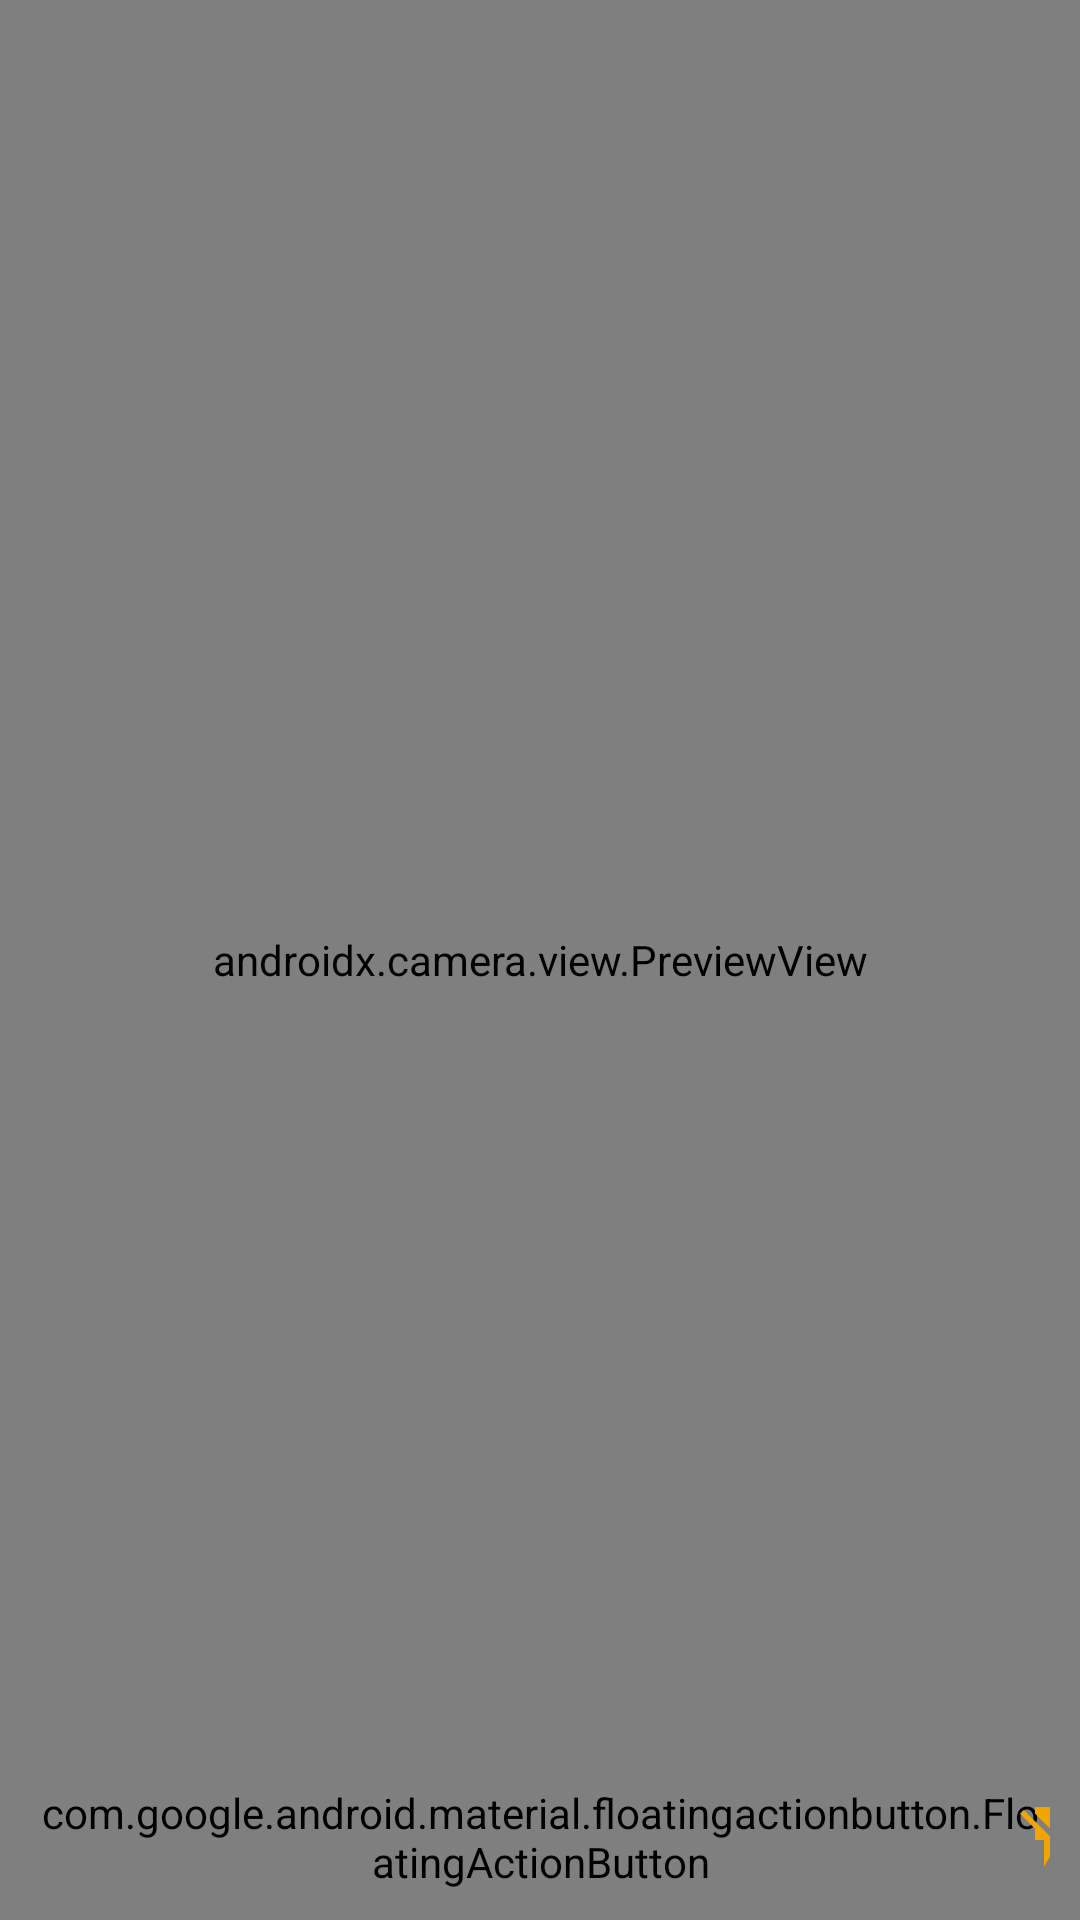

Point at icon controls on the screen. Image size 1080x1920, points as (x,y).
Flash on off button: (1033,1836)
